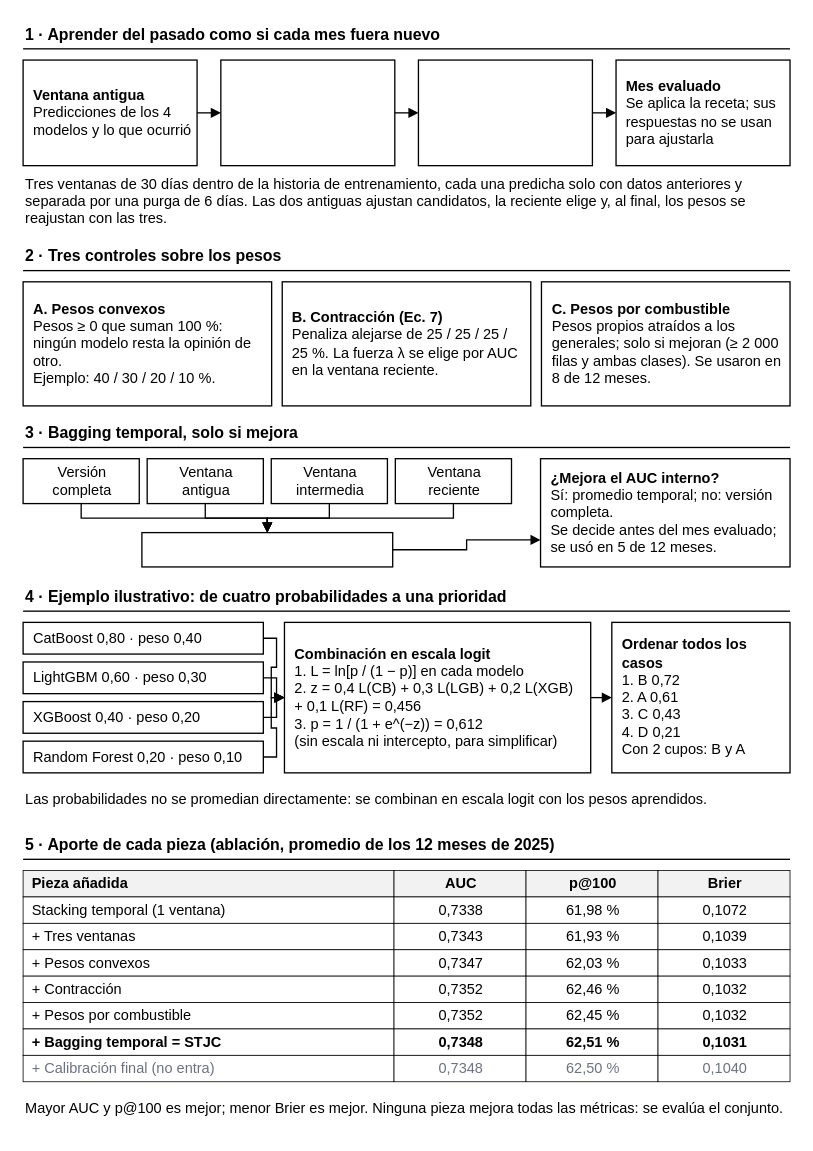
This 813x1151 diagram has some shape labels left out. The shapes that lost their labels are listed below. From the top down, each one's centre as x and y in pixels, then its label:
At (x=307, y=112): "Ventana intermedia Predicciones de los 4 modelos y lo que ocurrió".
At (x=504, y=112): "Ventana reciente Elige los controles por AUC".
At (x=267, y=549): "Promedio de probabilidades".
